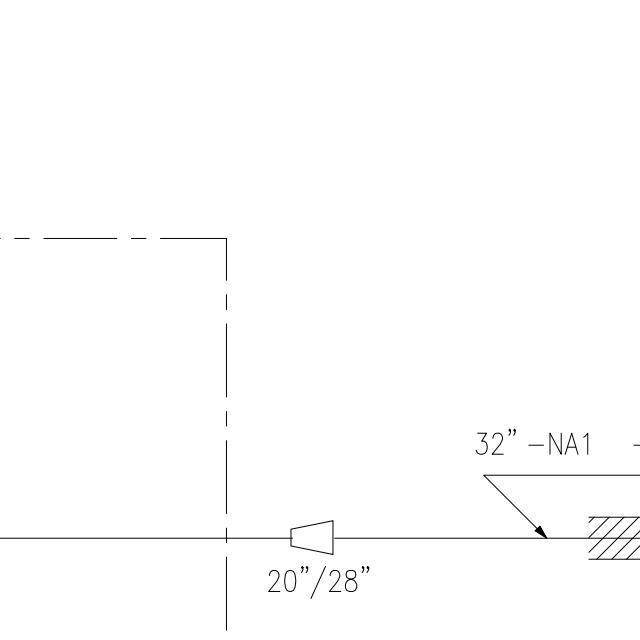SP: (286, 516, 339, 561)
